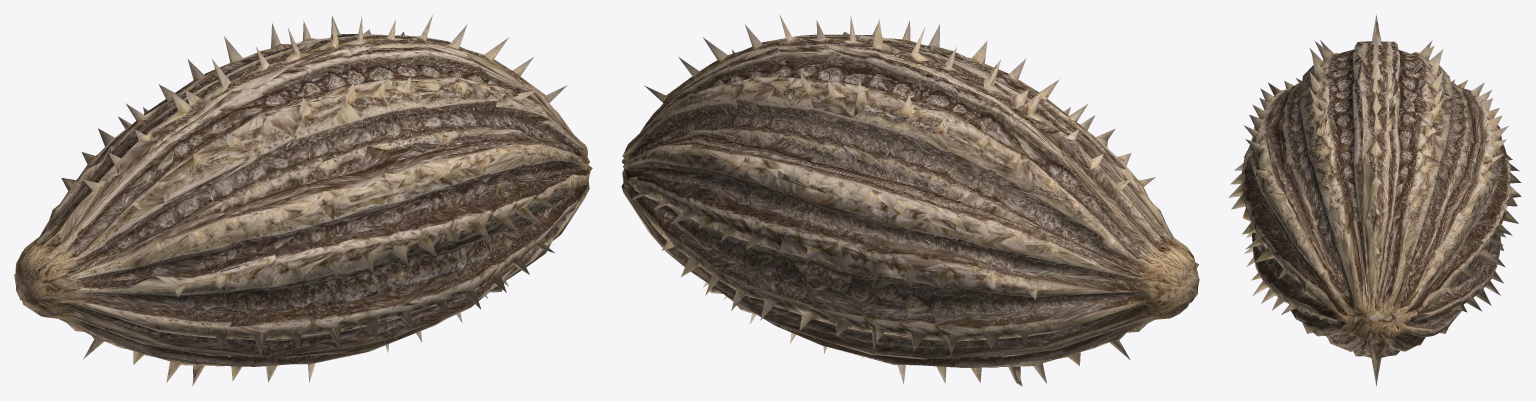
The model's file is s_zanahoria.glb.
3 views of the same model, side by side, from view 1: azimuth 30°, elevation 25°; view 2: azimuth 150°, elevation 25°; view 3: azimuth 270°, elevation 25° (orthographic). The views are drawn at different scales.
Visible parts, largest first — view 1: Meshy_AI_seed_3d_model_20261026_image-to-3d-texture; view 2: Meshy_AI_seed_3d_model_20261026_image-to-3d-texture; view 3: Meshy_AI_seed_3d_model_20261026_image-to-3d-texture.
Boxes of the visible parts, <box> form: Meshy_AI_seed_3d_model_20261026_image-to-3d-texture: <box>14,15,592,386</box>; Meshy_AI_seed_3d_model_20261026_image-to-3d-texture: <box>621,15,1199,386</box>; Meshy_AI_seed_3d_model_20261026_image-to-3d-texture: <box>1228,14,1521,386</box>.
Size of the model in its own units: 0.3264 by 0.2005 by 0.1774.
1 material, 1 textured.
